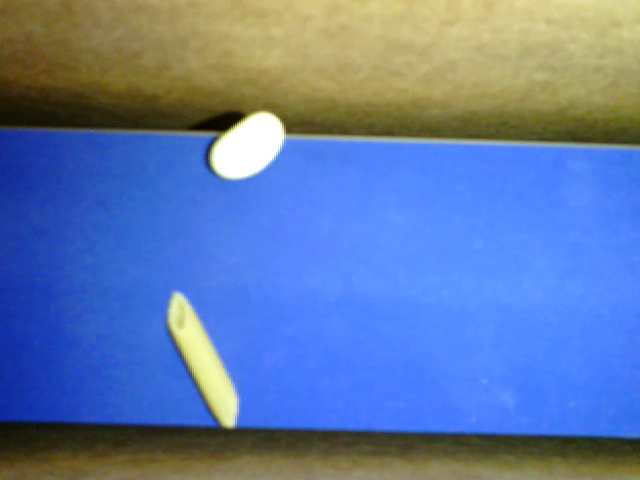penne: (165, 289, 239, 430)
